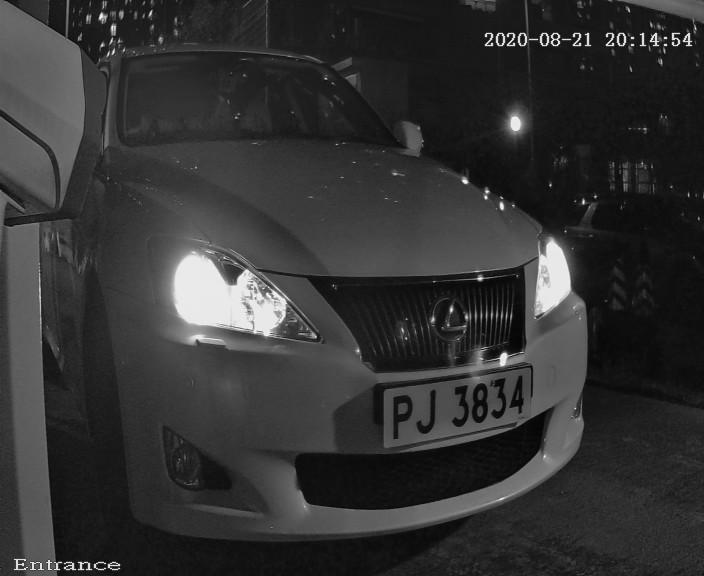License Plate: (363, 338, 555, 469)
